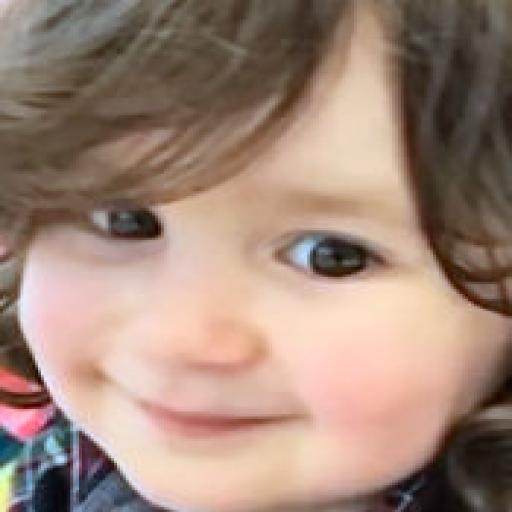Autism: (11, 10, 512, 489)
